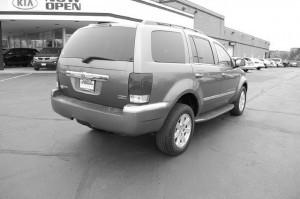car: (48, 20, 252, 161)
